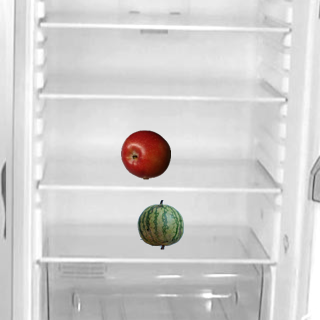Apple Braeburn: (120, 129, 170, 179)
Watermelon: (135, 199, 185, 249)
